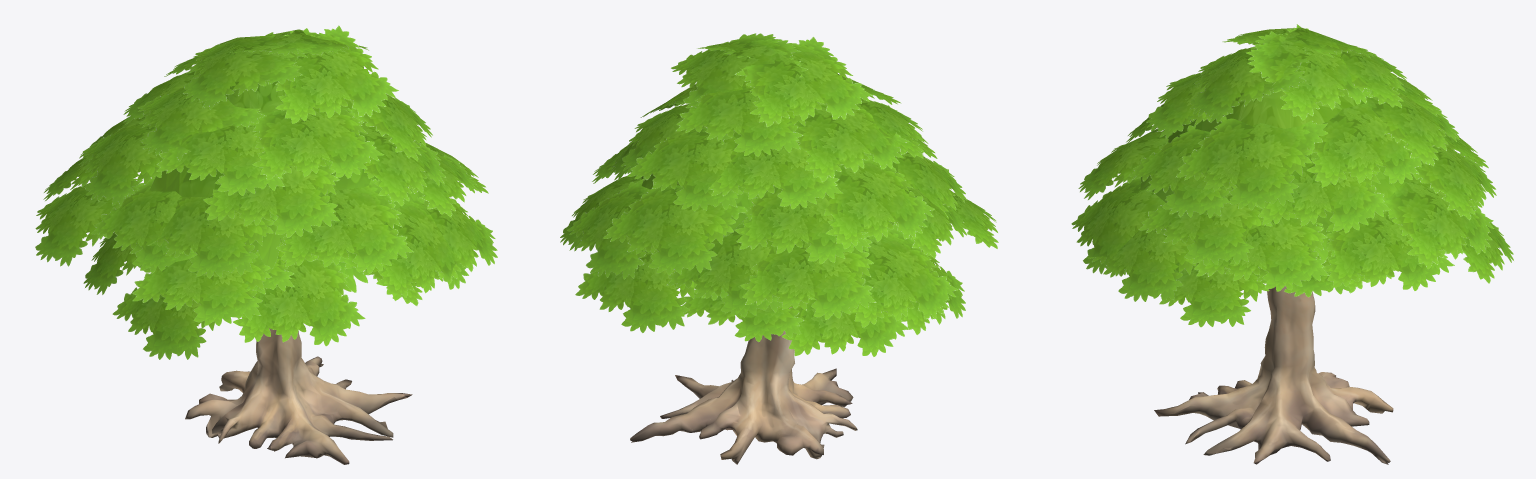
The model's file is Tree2.fbx.
3 renders of one model, left to right at view 1: azimuth 30°, elevation 25°; view 2: azimuth 150°, elevation 25°; view 3: azimuth 270°, elevation 25°, orthographic.
Visible parts, largest first — view 1: Tree leaves, TreeLP; view 2: Tree leaves, TreeLP; view 3: Tree leaves, TreeLP.
Part boxes in pixels (box(x1,y1,x2,y2)): Tree leaves: box(35, 25, 497, 359); TreeLP: box(185, 328, 412, 464); Tree leaves: box(560, 33, 998, 356); TreeLP: box(630, 307, 857, 464); Tree leaves: box(1071, 24, 1513, 327); TreeLP: box(1154, 286, 1393, 464).
Bounding box in the file's own units: 261 × 240 × 263.
Materials: 3 (3 with a texture image).
